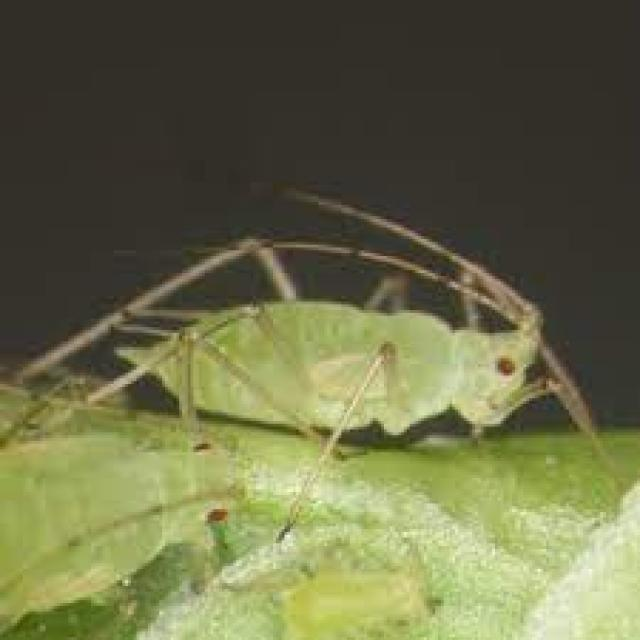Aphids: (29, 180, 614, 548)
